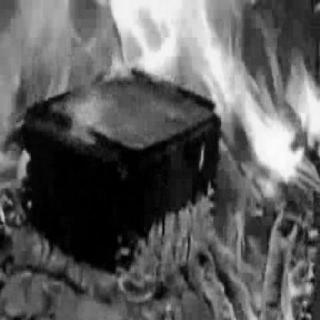Fire: (0, 2, 318, 314)
